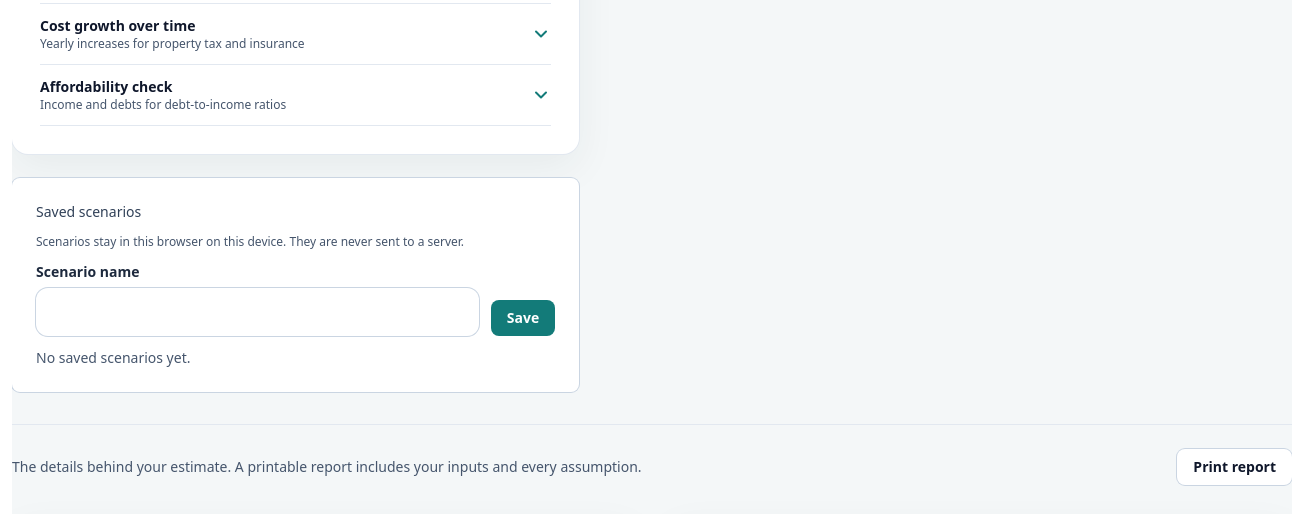
Test: saved scenarios › refuses a second scenario with the same name, ignoring case
The image size is (1304, 514).
(page scrolled)
Type "Condo" into the field labelled "Scenario name".
click(257, 312); type("Condo")  # box [36,292,479,332]
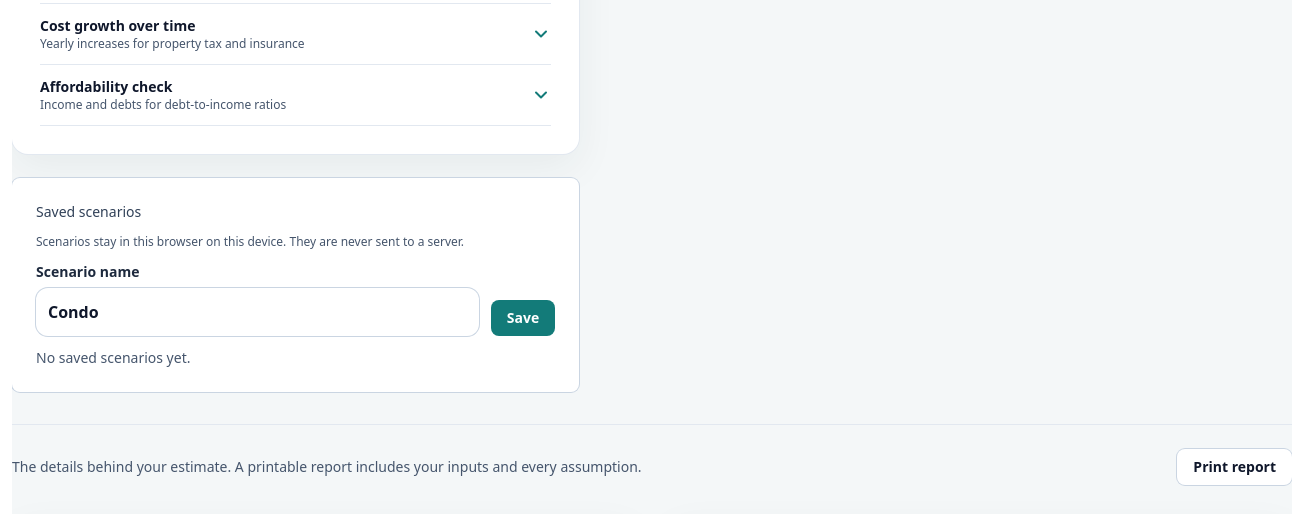
Click the button "Save".
click(523, 318)  # box [491,300,555,336]
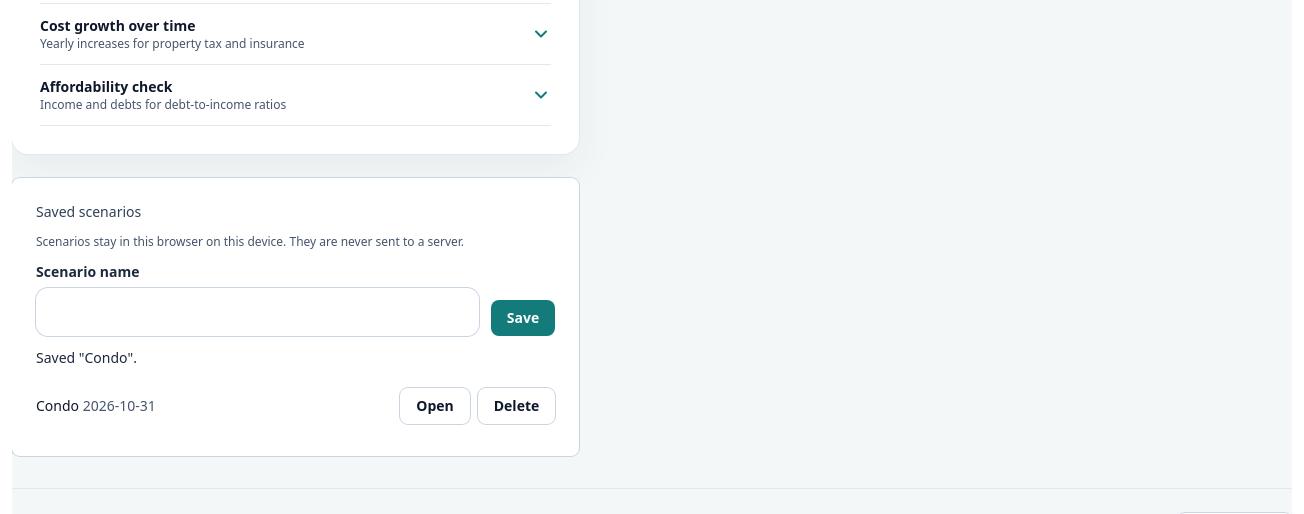
Type "condo" into the field labelled "Scenario name".
click(257, 312); type("condo")  # box [36,292,479,332]
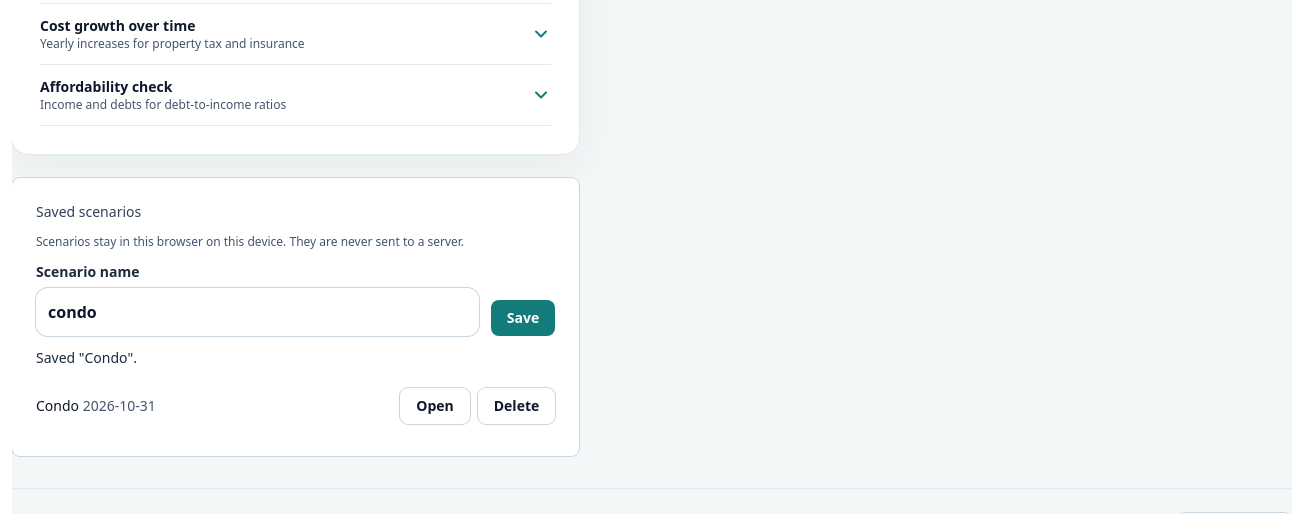
Click the button "Save".
click(523, 318)  # box [491,300,555,336]
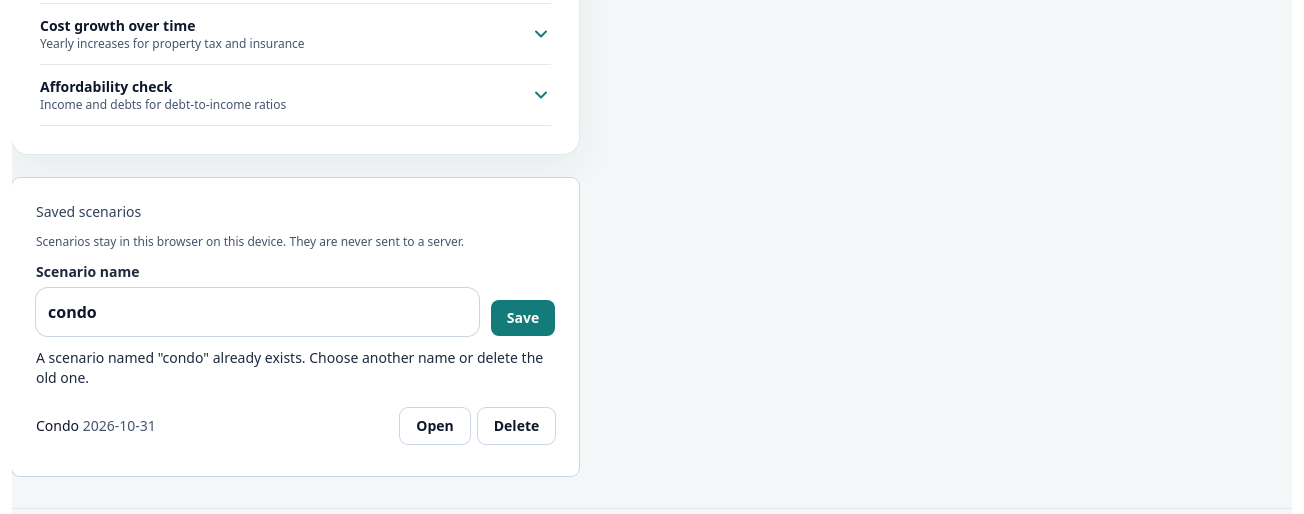
expect the number of buttons "Open " is 1: met, box [400,408,470,444]
expect the text "A scenario named \"condo\" already exists" is shown: met, box [36,348,543,387]
